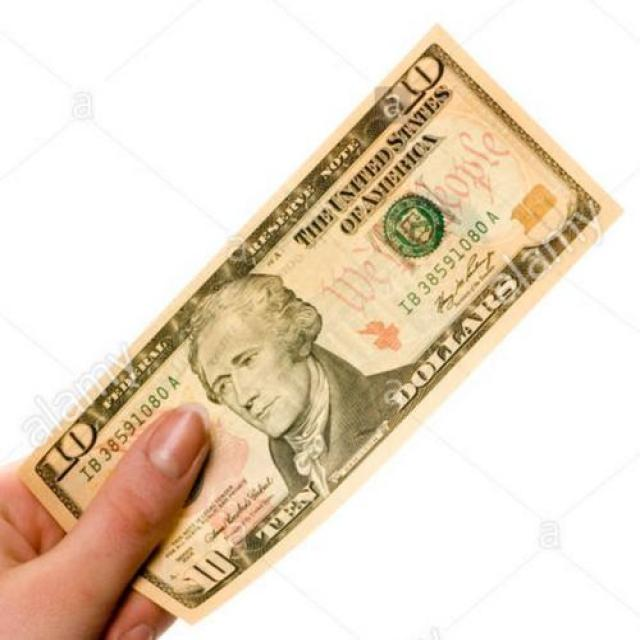10-Front: (14, 20, 626, 631)
